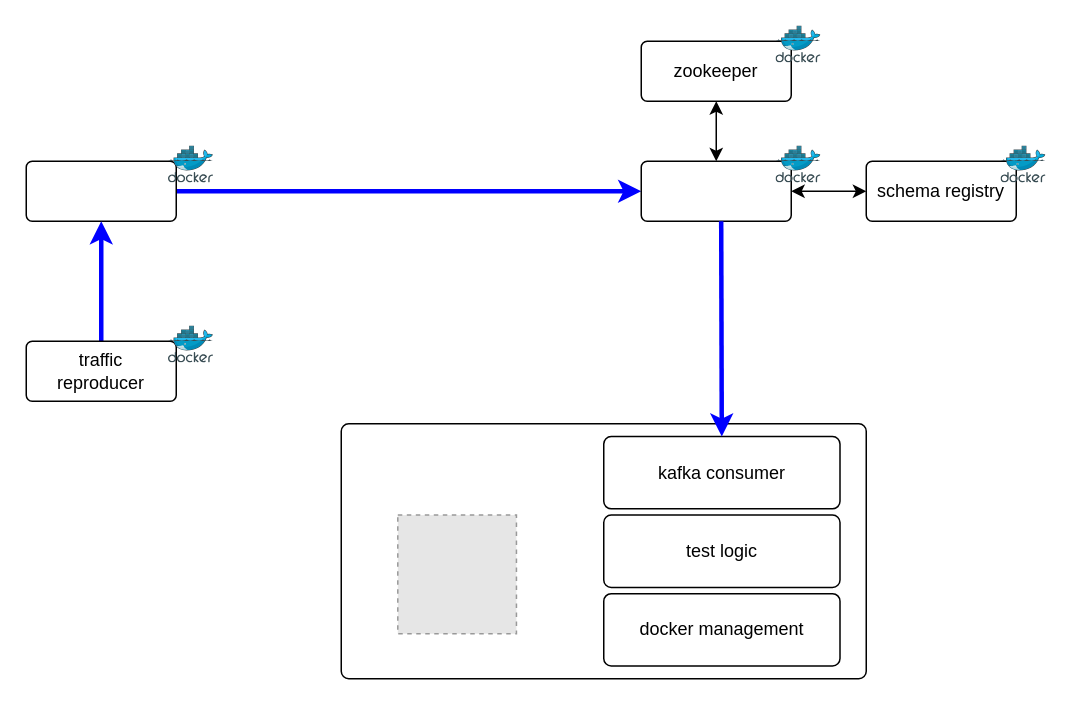
The diagram is 1073 pixels wide and 705 high, and some of its shapes have lost their labels. Grey dashed boxes stand in for pictures. The shapes that lost their labels are listed below. From the top down, each one's centre as x and y in pixels, then its label:
point 100,190: pmacct
point 715,190: kafka broker
point 456,490: Test Framework
